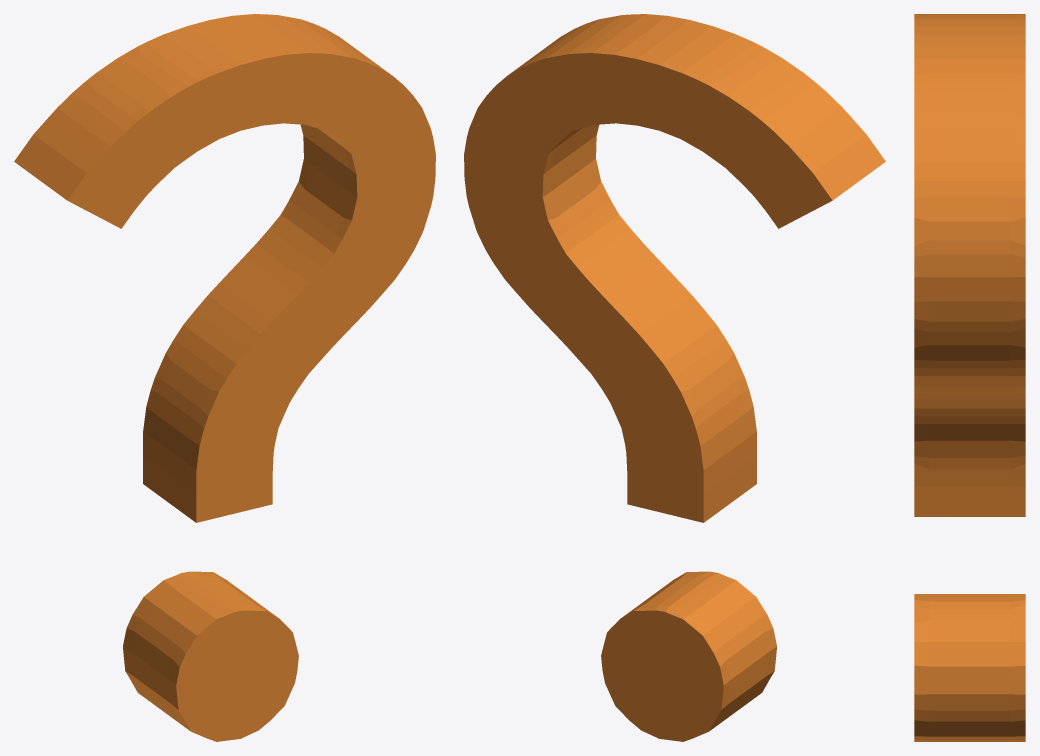
The model's file is question_mark.gltf.
3 renders of one model, left to right at view 1: azimuth 30°, elevation 25°; view 2: azimuth 150°, elevation 25°; view 3: azimuth 270°, elevation 25°, orthographic. The views are drawn at different scales.
Parts seen in each view (by area): view 1: Text; view 2: Text; view 3: Text.
Part boxes in pixels (<box>): Text: <box>14,14,435,741</box>; Text: <box>464,14,885,741</box>; Text: <box>914,14,1025,741</box>.
Size of the model in its own units: 0.2396 by 0.4188 by 0.06.
